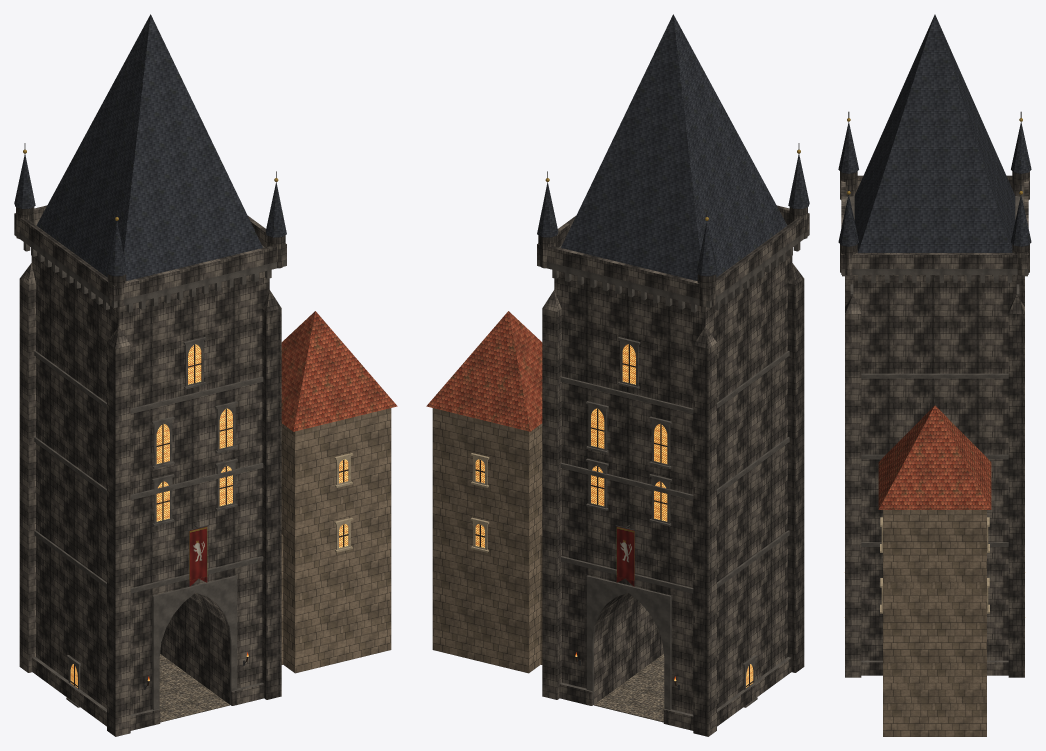
The model's file is bridge_tower_lesser.gltf.
3 renders of one model, left to right at view 1: azimuth 30°, elevation 25°; view 2: azimuth 150°, elevation 25°; view 3: azimuth 270°, elevation 25°, orthographic. The views are drawn at different scales.
Visible parts, largest first — view 1: bridge_tower_lesser_mesh; view 2: bridge_tower_lesser_mesh; view 3: bridge_tower_lesser_mesh.
Part boxes in pixels (box(x1,y1,x2,y2)): bridge_tower_lesser_mesh: box(14, 14, 397, 736); bridge_tower_lesser_mesh: box(426, 14, 809, 736); bridge_tower_lesser_mesh: box(838, 14, 1031, 736).
Size of what is drawn, in the model's own units: 22.3 by 46.65 by 13.
14 materials, 14 textured.
